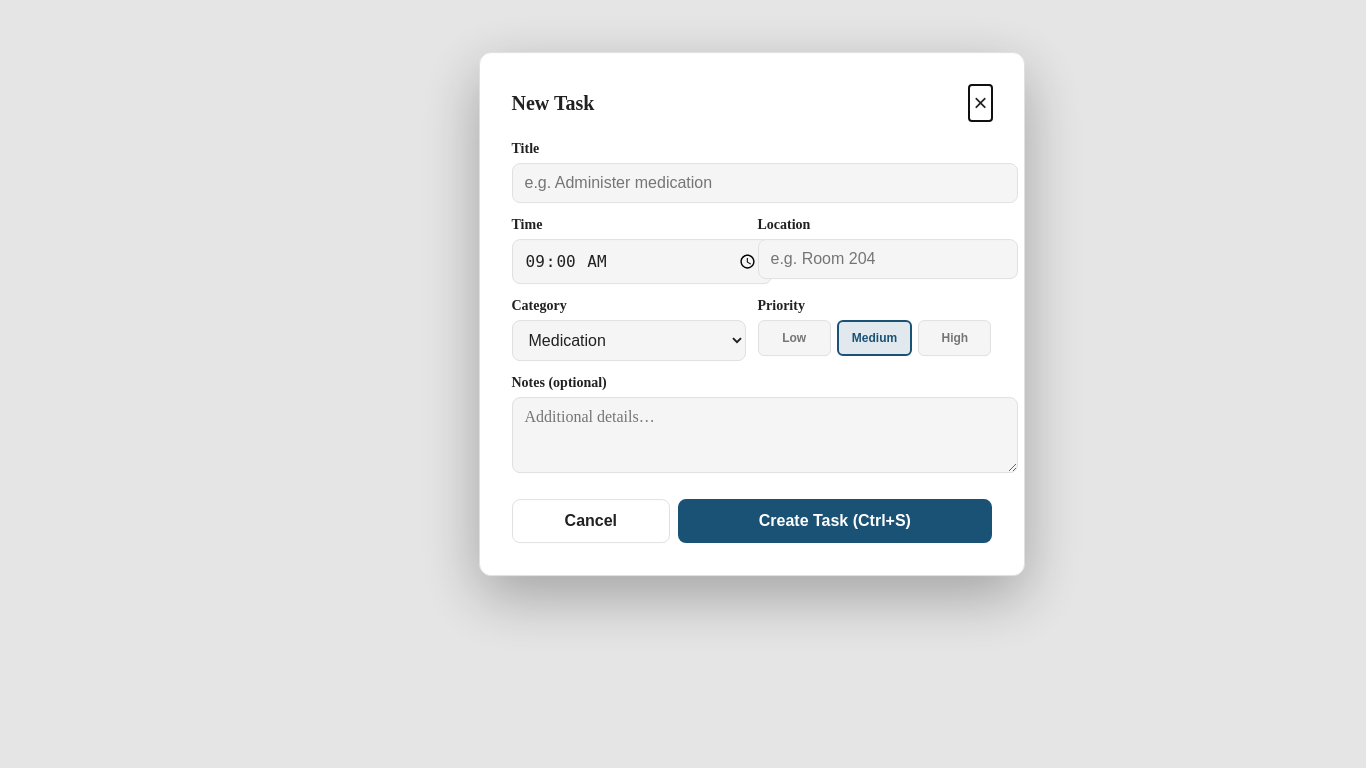
Test: NewTaskDialog › shows error when title is empty on submit
The image size is (1366, 768).
Click the button "Create Task (Ctrl+S)".
click(835, 521)  # box [678, 499, 992, 543]
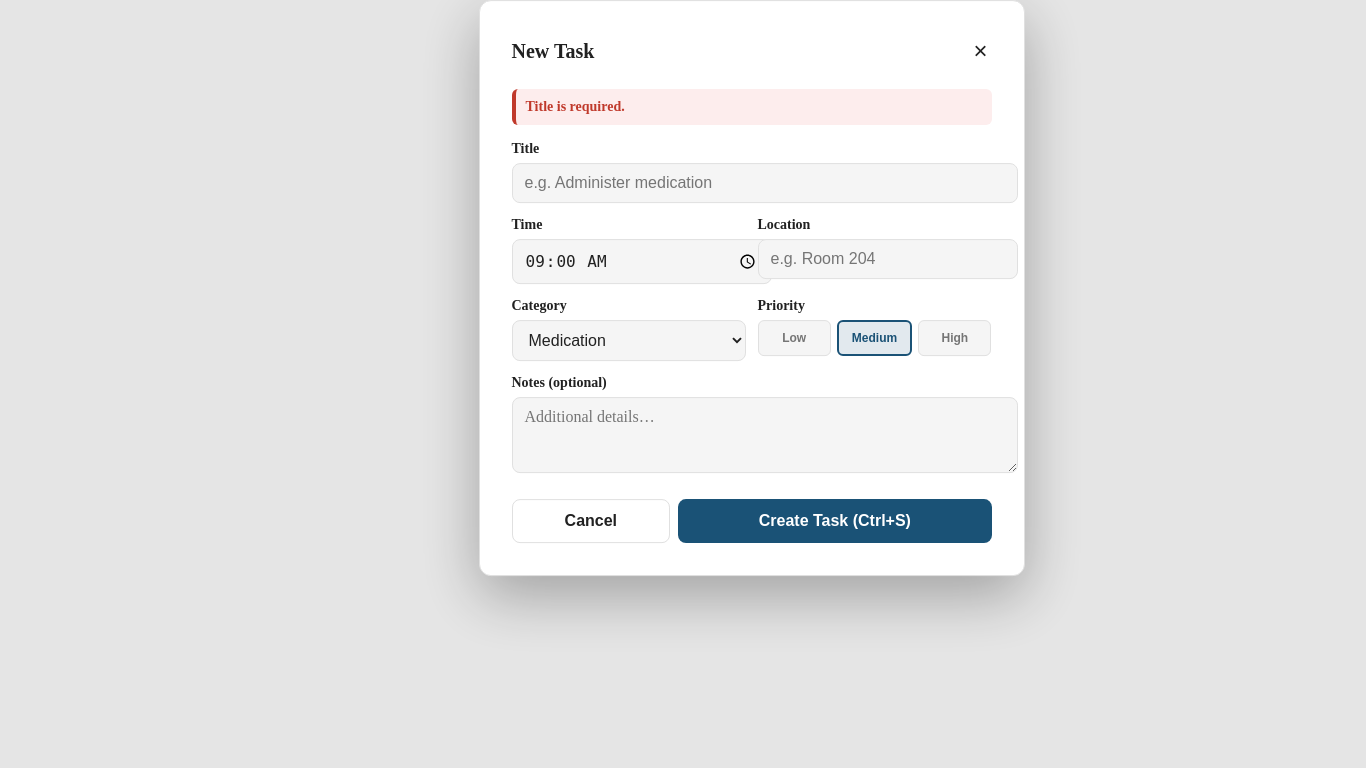
expect the message shows "Title is required": met, box [526, 99, 625, 114]
